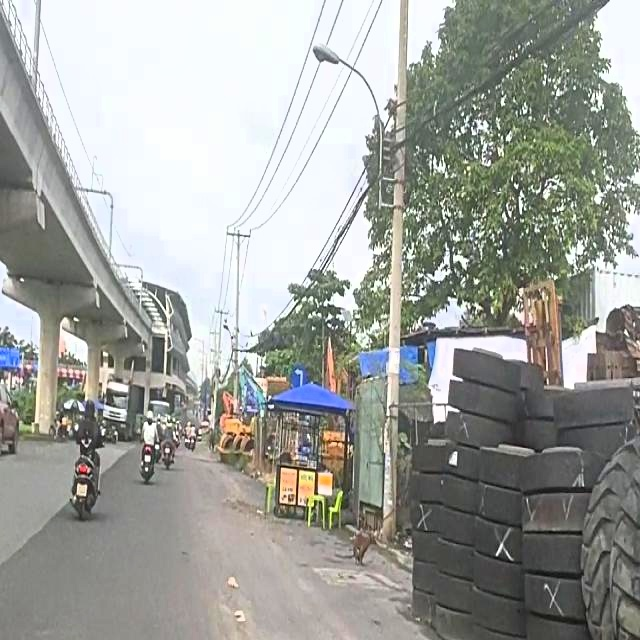R.301e: (291, 365, 307, 390)
